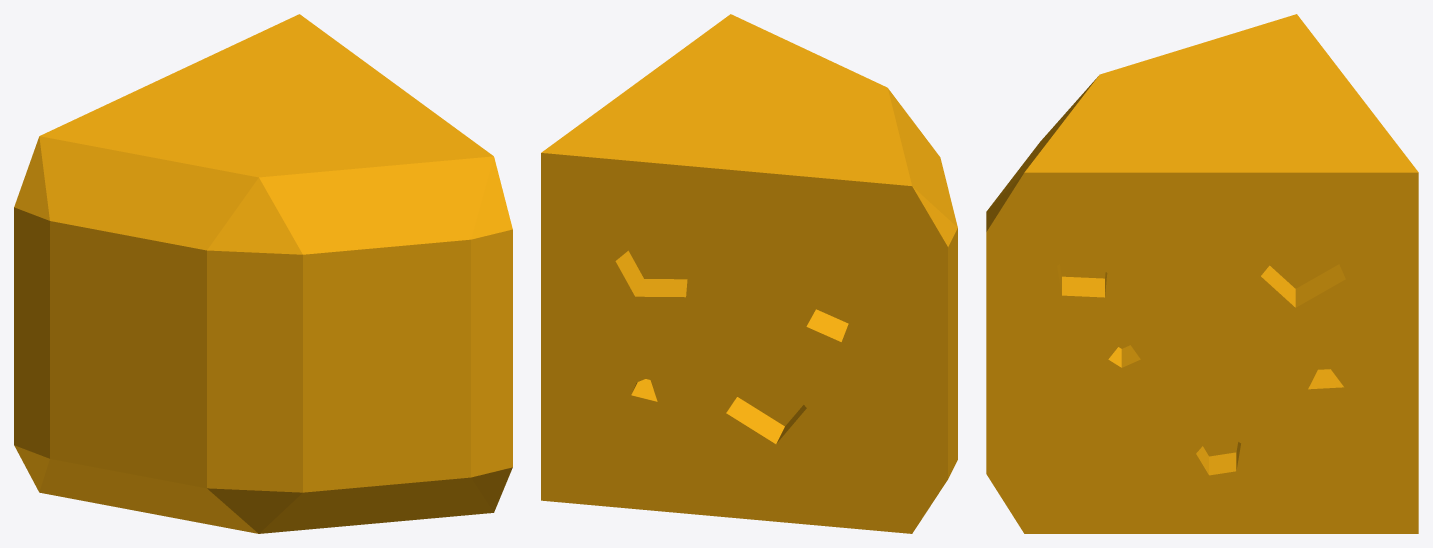
File: small_cheese.fbx
3 renders of one model, left to right at view 1: azimuth 30°, elevation 25°; view 2: azimuth 150°, elevation 25°; view 3: azimuth 270°, elevation 25°, orthographic. The views are drawn at different scales.
Visible parts, largest first — view 1: Cylinder.001; view 2: Cylinder.001; view 3: Cylinder.001.
Part boxes in pixels (left/top/right/bottom): Cylinder.001: left=14, top=14, right=512, bottom=533; Cylinder.001: left=541, top=14, right=957, bottom=533; Cylinder.001: left=986, top=14, right=1418, bottom=533.
Size of the model in its own units: 0.1431 by 0.1388 by 0.1505.
Materials: 1 (1 with a texture image).
